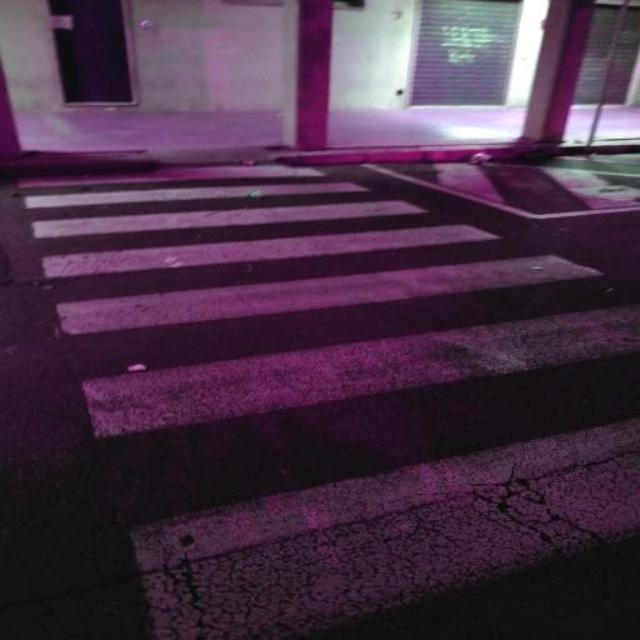sidewalk: (17, 168, 639, 640)
